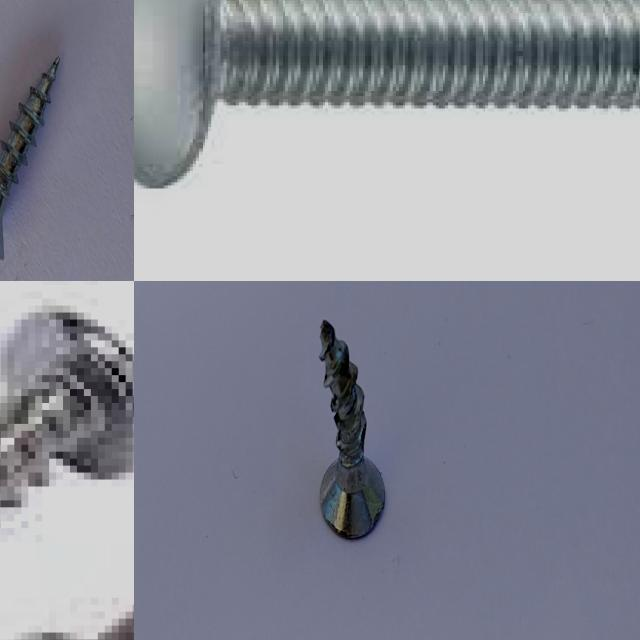Screw: (134, 0, 640, 192), (0, 313, 134, 522), (319, 319, 385, 538), (0, 56, 60, 259)
